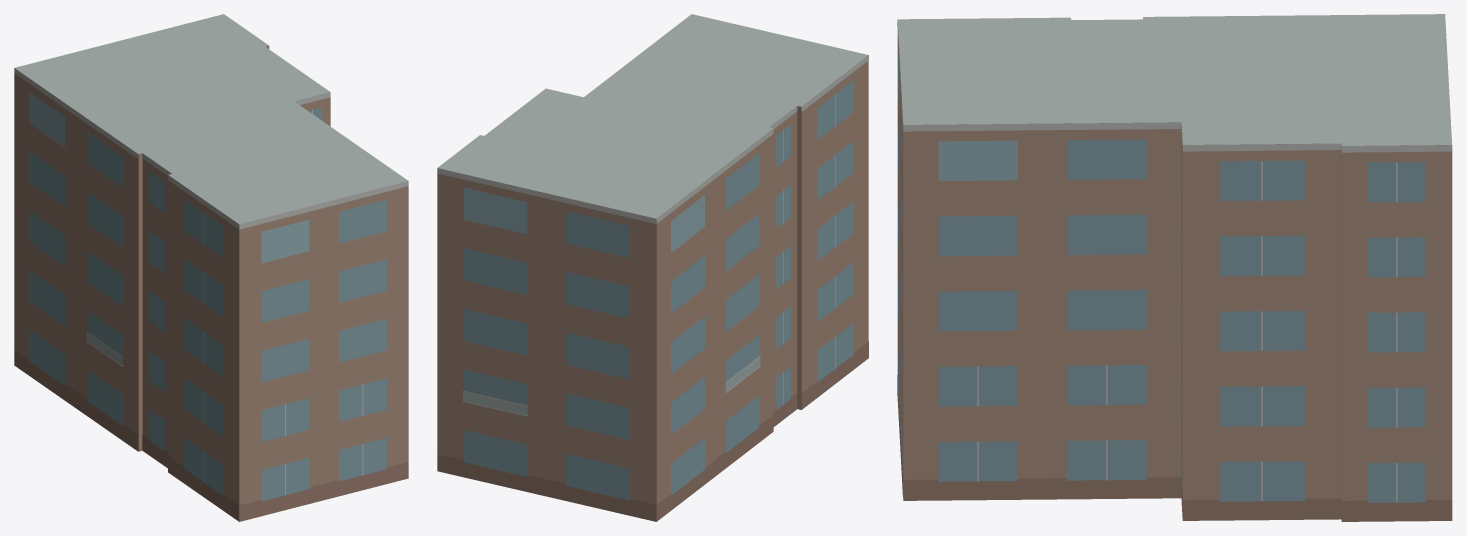
The model's file is survey-upis-32662002.glb.
The picture shows the model from 3 angles, left to right: view 1: azimuth 30°, elevation 25°; view 2: azimuth 150°, elevation 25°; view 3: azimuth 270°, elevation 25°; orthographic projection. The views are drawn at different scales.
Visible parts, largest first — view 1: survey-upis-32662002.tmp; view 2: survey-upis-32662002.tmp; view 3: survey-upis-32662002.tmp.
Boxes of the visible parts, x1=… form: survey-upis-32662002.tmp: x1=14, y1=14, x2=408, y2=521; survey-upis-32662002.tmp: x1=437, y1=14, x2=868, y2=521; survey-upis-32662002.tmp: x1=897, y1=14, x2=1452, y2=521.
Size of the model in its own units: 10.48 by 13.9 by 18.6.
